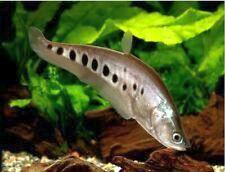Knifefish: (28, 23, 189, 153)
